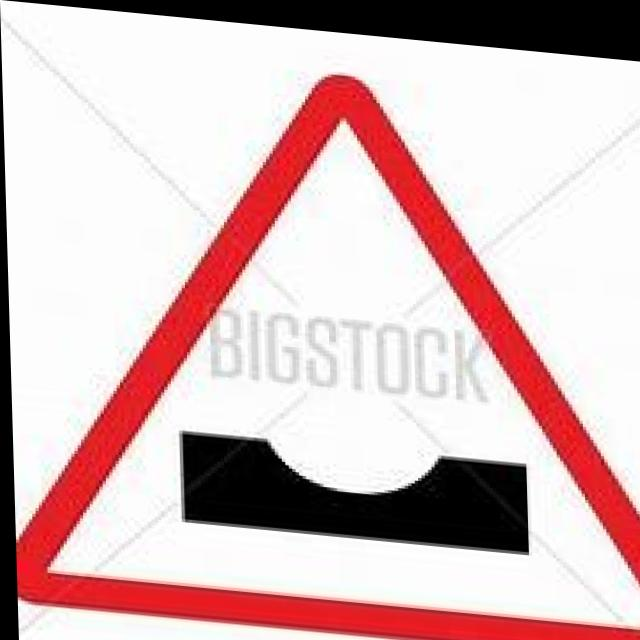DANGEROUS_DIP: (1, 37, 640, 640)
